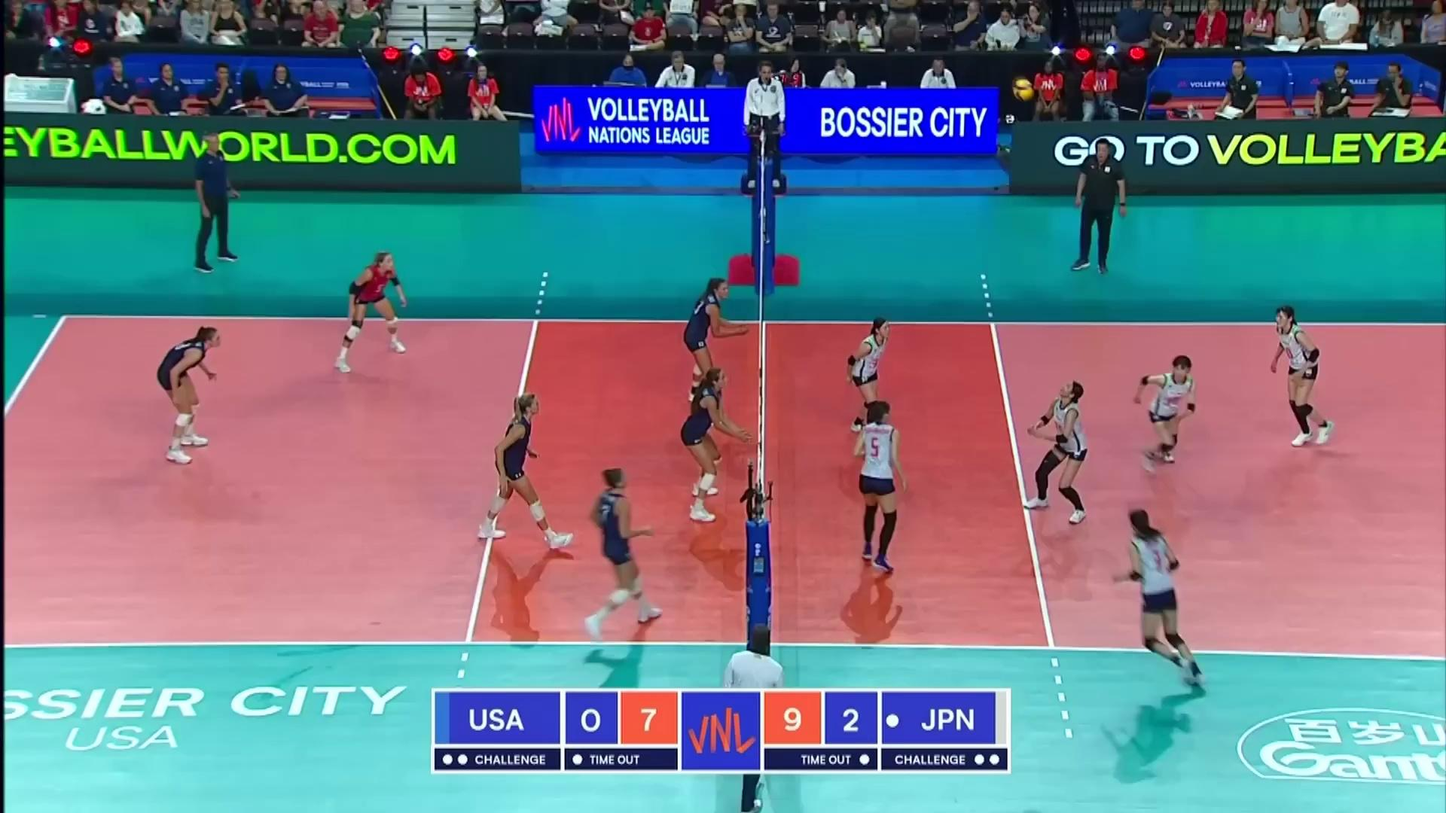player: (1114, 510, 1204, 693), (480, 392, 575, 544), (582, 468, 663, 636), (681, 370, 751, 521), (1024, 380, 1092, 521), (156, 328, 225, 462), (1272, 307, 1338, 447), (853, 402, 908, 569), (333, 252, 408, 372), (685, 278, 748, 406), (1135, 356, 1201, 469), (848, 317, 894, 434)
refree: (727, 623, 785, 813), (743, 62, 788, 187)
